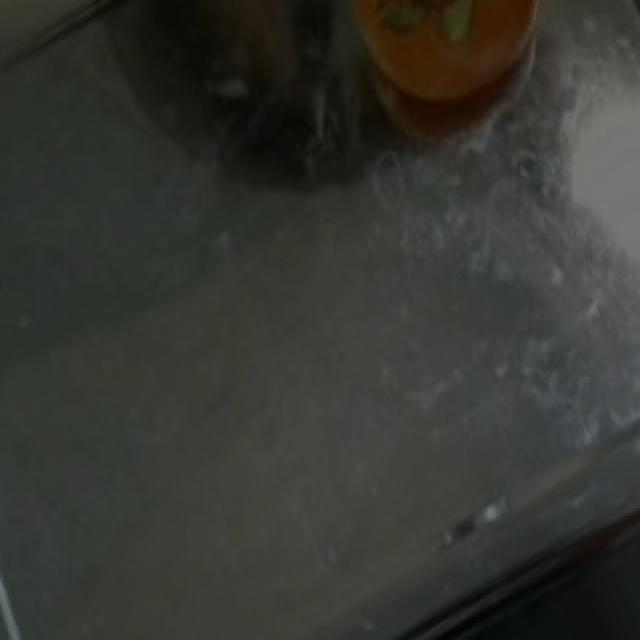Fruit: (332, 0, 574, 136), (0, 0, 162, 74)
